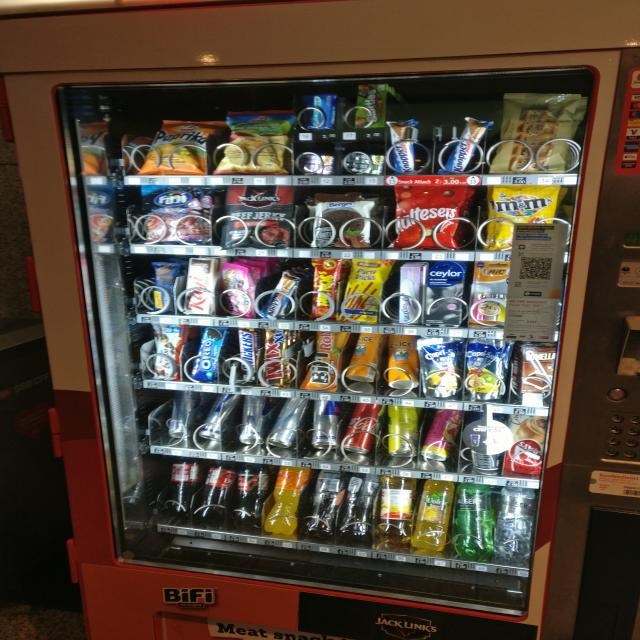7days_croissantschoko_packung_80_1_0000000000003: (503, 413, 545, 474)
airwaves_menthoneucalyptus_riegel_14_1_50173167: (312, 92, 338, 130)
berger_schoggitoertli____: (310, 193, 374, 248)
bifi_roll__50__4251097402635: (304, 328, 346, 392)
bueno___43__4008400320328: (151, 323, 185, 380)
c-swiss_dosenabisicetea__33__9120025930135: (346, 331, 384, 385), (387, 333, 419, 393)
caprisun_multivitamin__20__4000177605004: (416, 337, 461, 401), (463, 336, 505, 402)
coke__dose_33__54491472: (342, 400, 381, 460)
coke__flasche_50__54491472: (200, 460, 233, 524), (167, 452, 199, 517)
coke_zero_flasche_50__5449000131836: (234, 462, 275, 526)
comella_schokodrink__33__7613100037253: (522, 344, 554, 404)
fanta___50__40822938: (268, 464, 311, 538)
fini_galaxymix_packung_100_1_8410525150364: (144, 183, 207, 242)
fini_jellykisses_packung_80_1_8410525116704: (220, 262, 254, 315)
fuse_lemon__50__5449000235947: (341, 473, 382, 542)
fuse_lemon_dose_33__5449000235947: (384, 402, 421, 455)
fuse_peach__50__5449000236623: (308, 469, 346, 537)
jacklinks_beefjerkyorginal__25__4047751730219: (220, 184, 294, 248)
jlbrichard_gauffre__90__5410495002000: (497, 89, 575, 173)
kagi___50__7610046000259: (183, 255, 216, 315)
knoppers_riegel____4035800488808: (440, 117, 486, 175), (388, 116, 422, 175), (260, 269, 300, 317)
lorenz_nicnacs__40__4018077798818: (310, 255, 343, 322)
malburner_partysticks__40__7610200279682: (343, 257, 386, 326)
maltesers___100__5000159023061: (391, 184, 466, 248)
mnms_gelb__45__40111445: (491, 184, 557, 254)
oreo___66__84100733: (192, 324, 226, 383)
powerbar_proteinplusschoko__55__4029679520028: (152, 260, 178, 316)
ramseier_schorle__50__7610057012456: (379, 475, 413, 548)
redbull___33__90162909: (199, 392, 233, 441), (166, 388, 198, 439), (236, 395, 267, 445)
redbull_light__33__90162800: (267, 395, 306, 449), (309, 396, 342, 450)
skittles_sour_riegel_51_1_: (355, 82, 386, 128)
snickers___50__5000159461122: (236, 328, 264, 383)
stimorol_spearmint_riegel_14_1_: (344, 151, 387, 175)
stimorol_wildcherry_riegel_14_1_57060330: (294, 153, 333, 176)
tiki_himbeerbrause_dose_33_1_: (421, 410, 459, 464)
twix___50__5000159459228: (263, 327, 292, 386)
valser_classic__50__76404160: (454, 479, 494, 556)
valser_still__50__7610335002575: (496, 487, 535, 566)
volvic_pinapple__50__305764335648: (413, 479, 454, 554)
zweifel_graneochilli__100__7610095184009: (224, 109, 292, 172)
zweifel_paprika__90__7610095013002: (134, 117, 219, 177)
